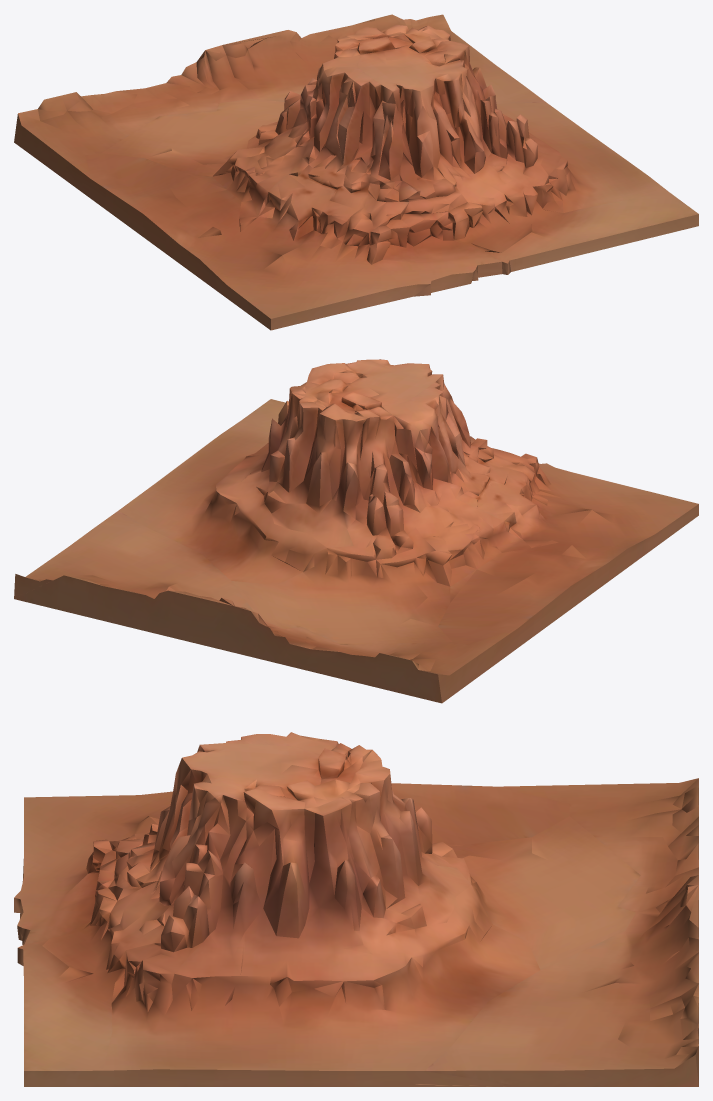
The model's file is marsMesaTall.glb.
3 renders of one model, top to bottom at view 1: azimuth 30°, elevation 25°; view 2: azimuth 150°, elevation 25°; view 3: azimuth 270°, elevation 25°, orthographic. The views are drawn at different scales.
Parts seen in each view (by area): view 1: model; view 2: model; view 3: model.
Part boxes in pixels (bbox=[...]): model: bbox=[14, 14, 698, 330]; model: bbox=[14, 359, 698, 703]; model: bbox=[14, 732, 698, 1086].
Size of the model in its own units: 1.79 by 0.5978 by 1.89.
1 material, 1 textured.
